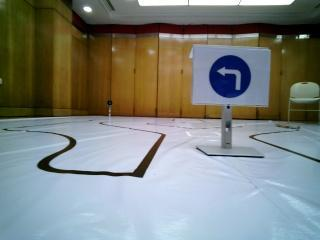left: (196, 49, 274, 105)
